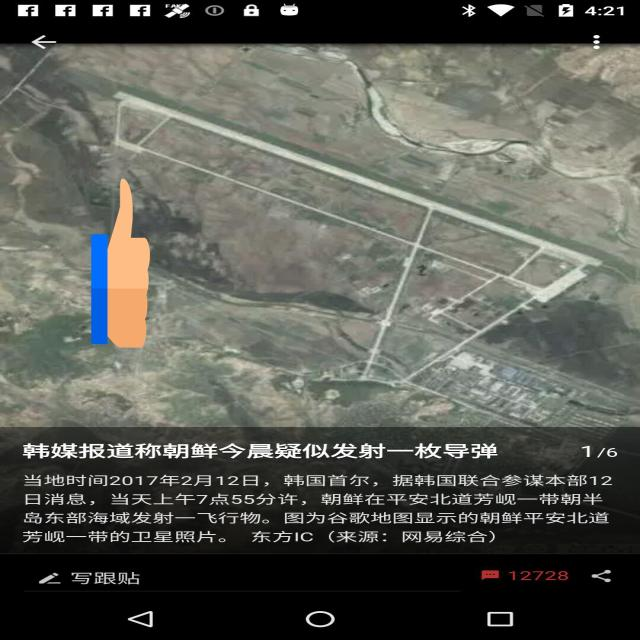privacy zuckering: (91, 174, 150, 352)
